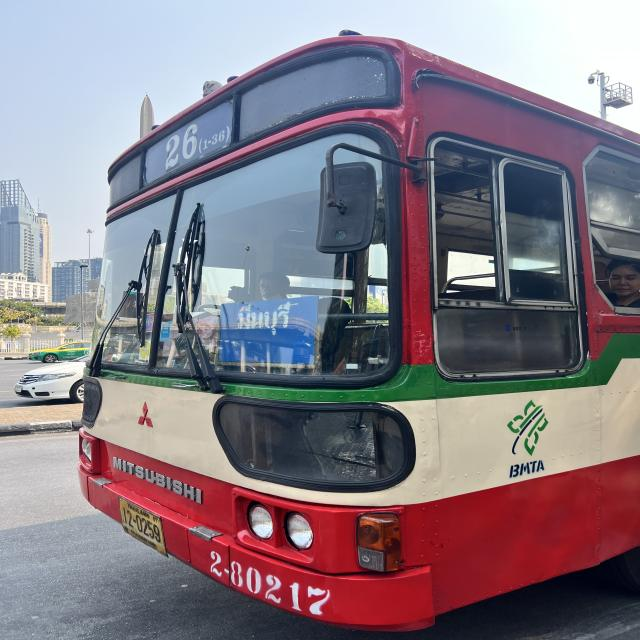BMTA-bus: (74, 30, 640, 634)
Bus-Line-Number: (155, 94, 235, 177)
Destination-Sign-Normal: (218, 296, 317, 365)
